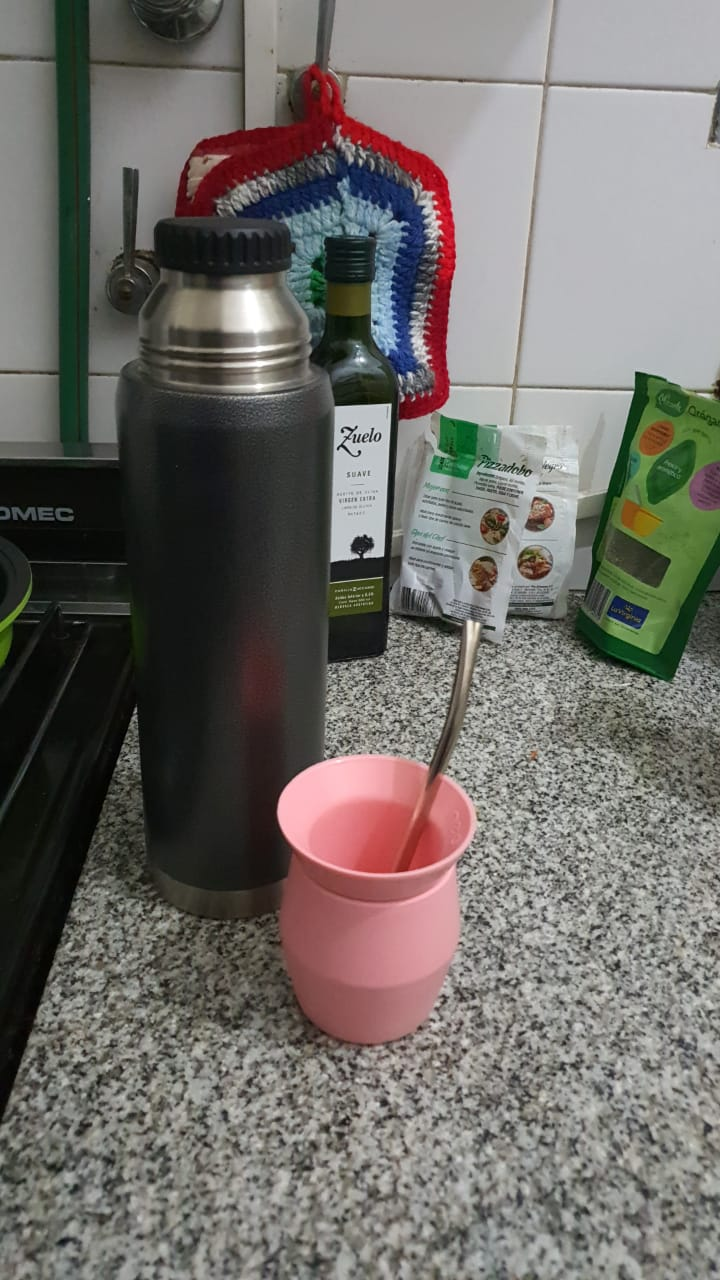mate: (262, 744, 486, 1050)
plastico: (270, 756, 483, 1084)
